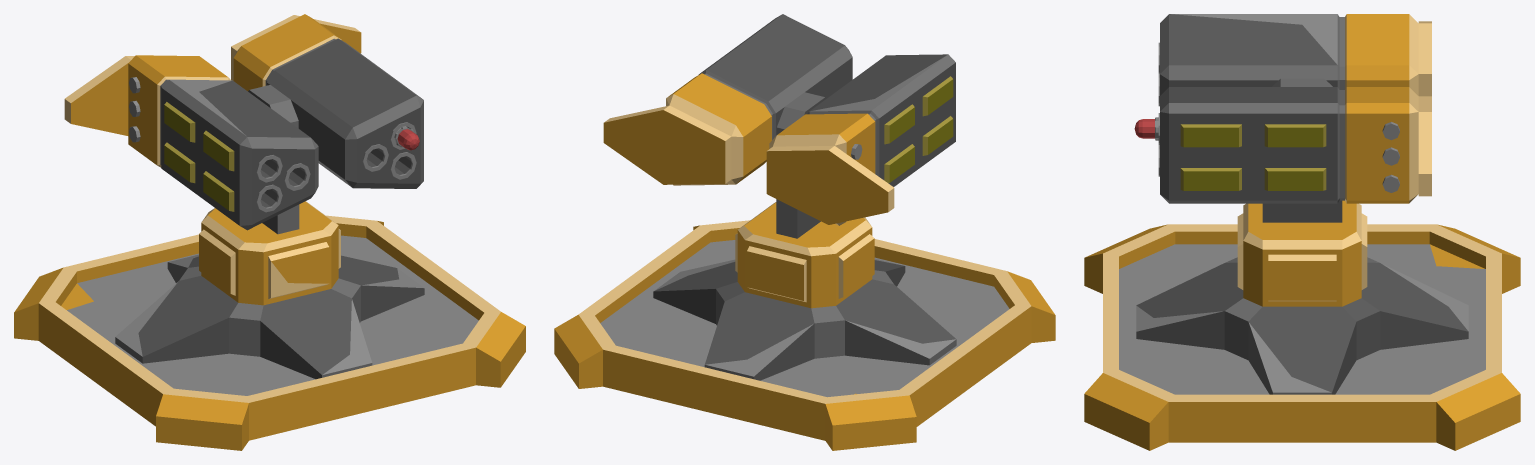
File: tower_rocket_yellow_2.fbx
3 views of the same model, side by side, from view 1: azimuth 30°, elevation 25°; view 2: azimuth 150°, elevation 25°; view 3: azimuth 270°, elevation 25° (orthographic). The views are drawn at different scales.
Visible parts, largest first — view 1: top_rocket_yellow_2, tower_rocket_yellow_2; view 2: top_rocket_yellow_2, tower_rocket_yellow_2; view 3: top_rocket_yellow_2, tower_rocket_yellow_2, rocket_yellow_2.
Boxes of the visible parts, x1,y1,x2,y2 form: top_rocket_yellow_2: (64,14,424,379); tower_rocket_yellow_2: (14,215,525,450); top_rocket_yellow_2: (603,14,956,380); tower_rocket_yellow_2: (554,220,1055,450); top_rocket_yellow_2: (1136,14,1468,394); tower_rocket_yellow_2: (1084,224,1520,450); rocket_yellow_2: (1134,117,1158,140).
Size of the model in its own units: 173 by 123 by 164.
